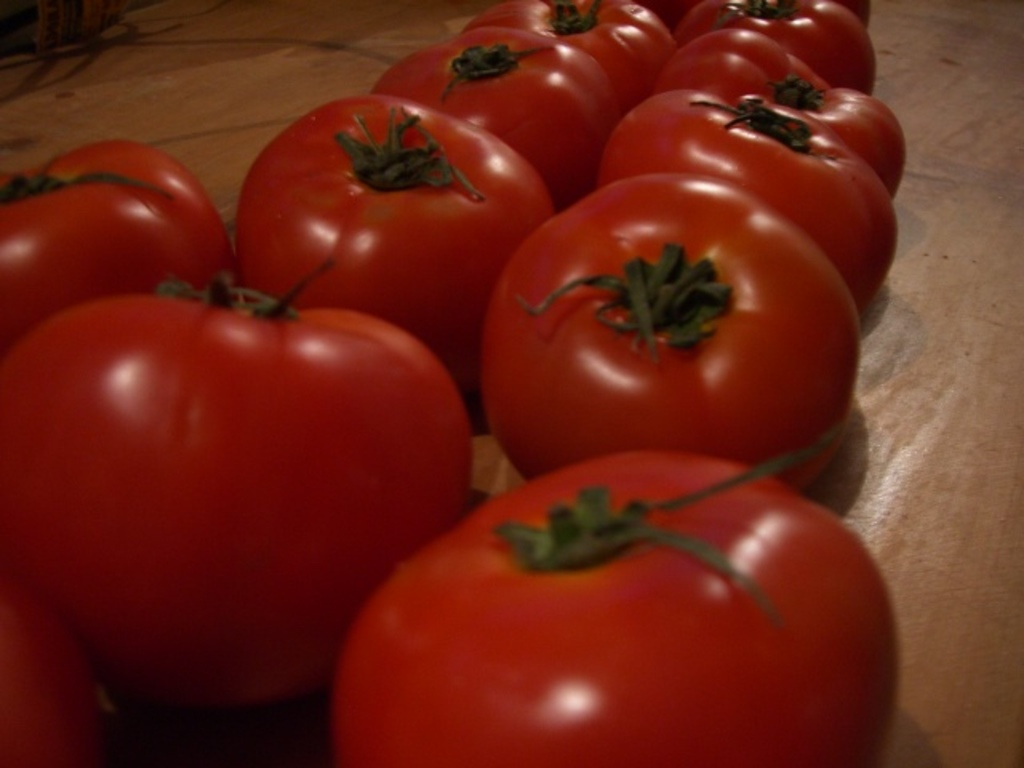Tomato: (0, 0, 906, 768)
